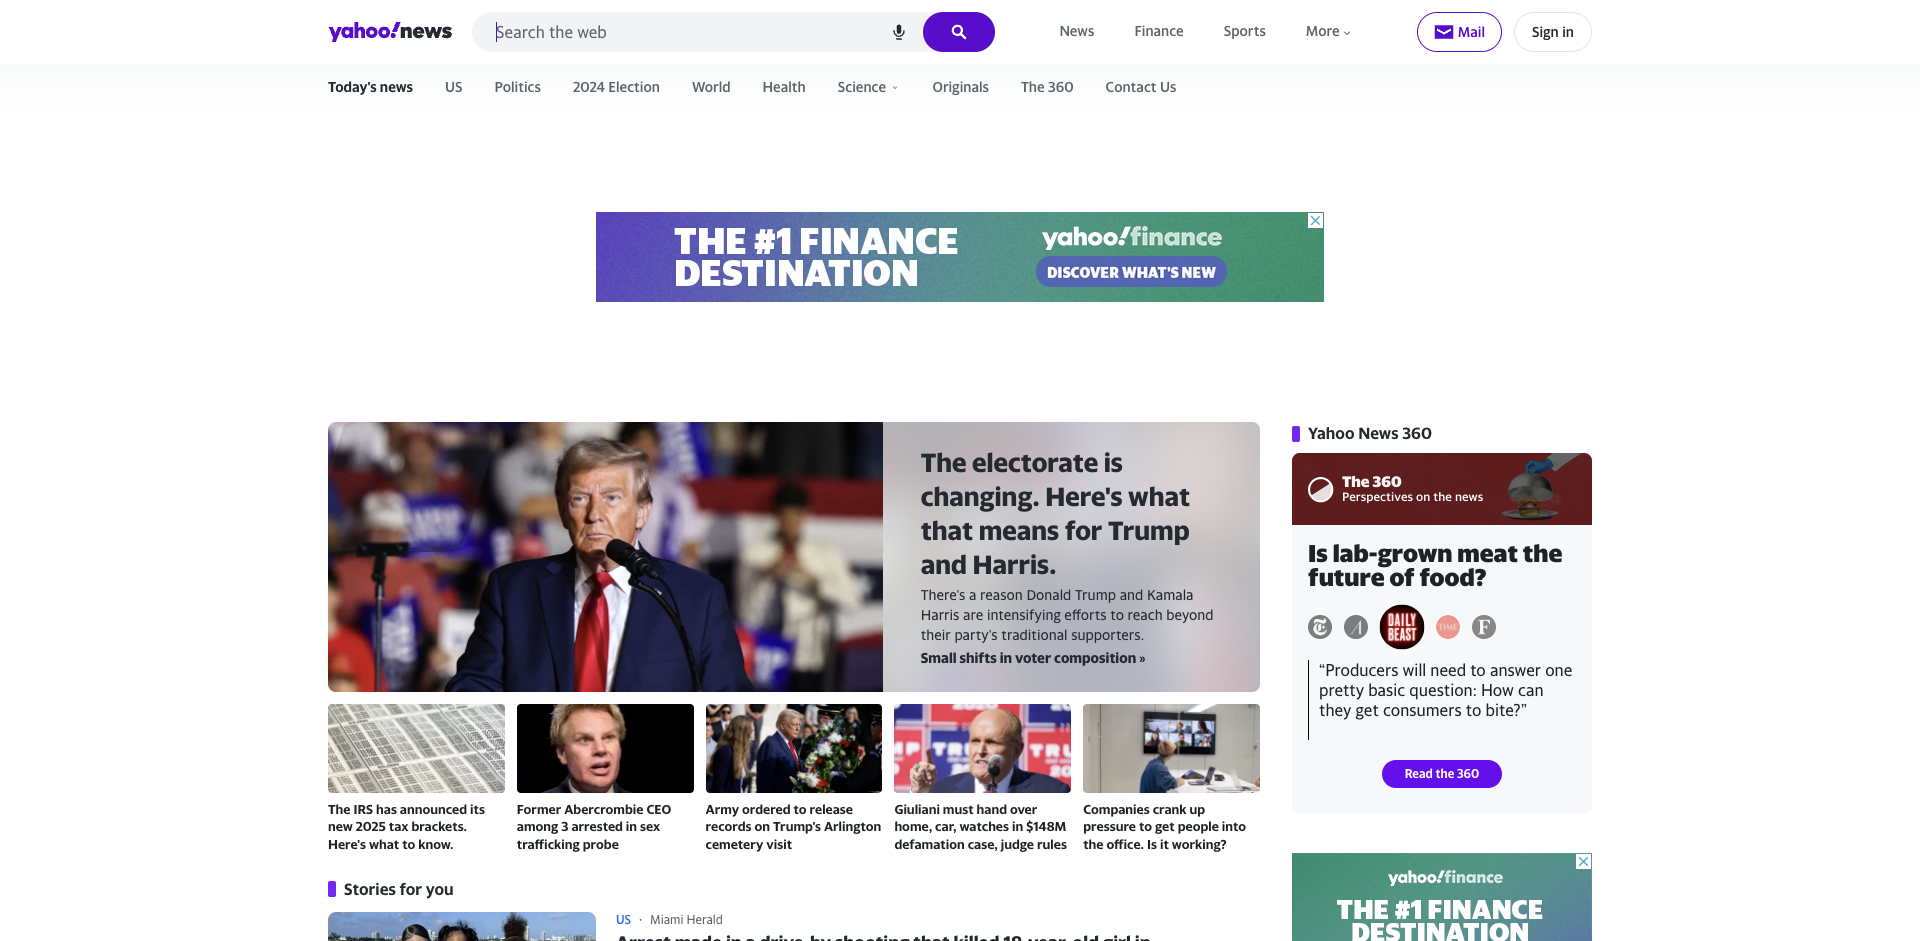button: (1408, 314, 1592, 358), (1417, 12, 1502, 51), (923, 12, 996, 51), (1302, 18, 1357, 44), (888, 12, 911, 51), (1876, 20, 1900, 44), (1189, 81, 1223, 98), (911, 37, 913, 39)
input: (471, 12, 996, 51)
link: (921, 446, 1223, 668), (705, 703, 883, 853), (894, 703, 1071, 853), (328, 703, 504, 853), (517, 703, 693, 853), (1084, 703, 1260, 853), (1292, 524, 1599, 605), (328, 912, 596, 941), (616, 931, 1210, 941), (1408, 267, 1592, 297), (544, 88, 729, 116), (544, 135, 729, 163), (544, 207, 729, 235), (544, 243, 729, 271), (544, 279, 729, 308), (544, 315, 729, 343), (544, 350, 729, 379), (544, 387, 729, 415), (544, 423, 729, 451), (1191, 88, 1376, 116), (1191, 135, 1376, 163), (1191, 207, 1376, 235), (1191, 243, 1376, 271), (1191, 279, 1376, 308), (1191, 315, 1376, 343), (1191, 350, 1376, 379), (1191, 387, 1376, 415), (1191, 423, 1376, 451), (328, 88, 512, 116), (328, 135, 512, 163), (328, 207, 512, 235), (328, 243, 512, 271), (328, 279, 512, 308), (328, 315, 512, 343), (328, 350, 512, 379), (328, 387, 512, 415), (328, 423, 512, 451), (328, 495, 512, 523), (760, 88, 944, 116), (760, 135, 944, 163), (760, 207, 944, 235), (760, 243, 944, 271), (760, 279, 944, 308), (760, 315, 944, 343), (760, 350, 944, 379), (760, 387, 944, 415), (976, 88, 1160, 116), (976, 135, 1160, 163), (976, 207, 1160, 235), (976, 243, 1160, 271), (976, 279, 1160, 308), (976, 315, 1160, 343), (976, 350, 1160, 379), (976, 387, 1160, 415), (976, 423, 1160, 451), (1408, 135, 1592, 163), (1408, 207, 1592, 235), (544, 172, 729, 198), (544, 459, 729, 486), (1191, 172, 1376, 198), (1191, 459, 1376, 486), (328, 172, 512, 198), (328, 459, 512, 486), (760, 172, 944, 198), (976, 172, 1160, 198), (1408, 172, 1592, 198), (824, 131, 986, 158), (561, 65, 672, 103), (316, 65, 425, 103), (1093, 65, 1189, 103), (1382, 760, 1502, 788), (825, 65, 912, 103), (1513, 12, 1592, 51), (921, 65, 1000, 103), (1009, 65, 1086, 103), (482, 65, 553, 103), (751, 65, 818, 103), (328, 22, 452, 42), (680, 65, 742, 103), (1434, 13, 1485, 50), (433, 65, 474, 103), (1130, 18, 1188, 44), (1220, 18, 1270, 44), (1056, 18, 1098, 44)
